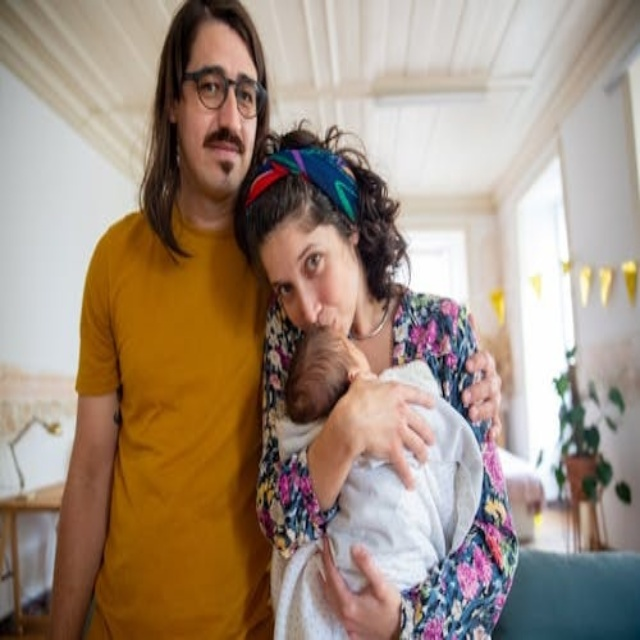Gafas: (181, 69, 267, 119)
Sin_gafas: (275, 233, 326, 304)
Sin_guantes: (317, 371, 440, 496), (314, 533, 401, 640)
Sin_mascara: (193, 125, 242, 185)
